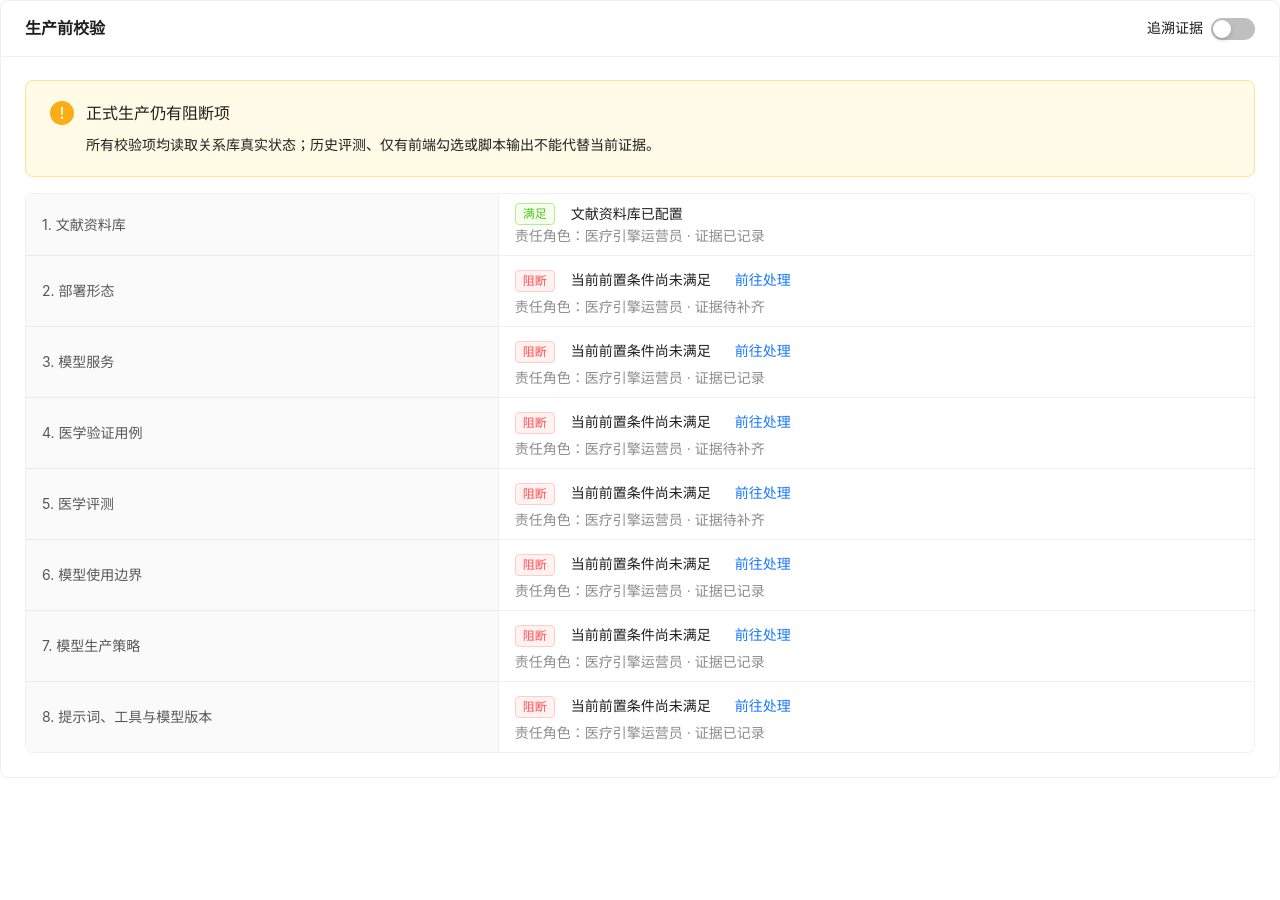
Test case: ProductionReadinessPanel › 默认隐藏生产前校验低频证据，授权打开证据详情后再展示
Expected: the text "责任角色：医疗引擎运营员 · 证据已记录" is shown 5 times, [515,227,765,244]; [515,369,765,386]; [515,582,765,599]; [515,653,765,670]; [515,724,765,741]
Expected: the text "file:///medkernel-data/" is not shown
Click the switch named "证据详情" at (1233,29), box [1211,18,1255,40]
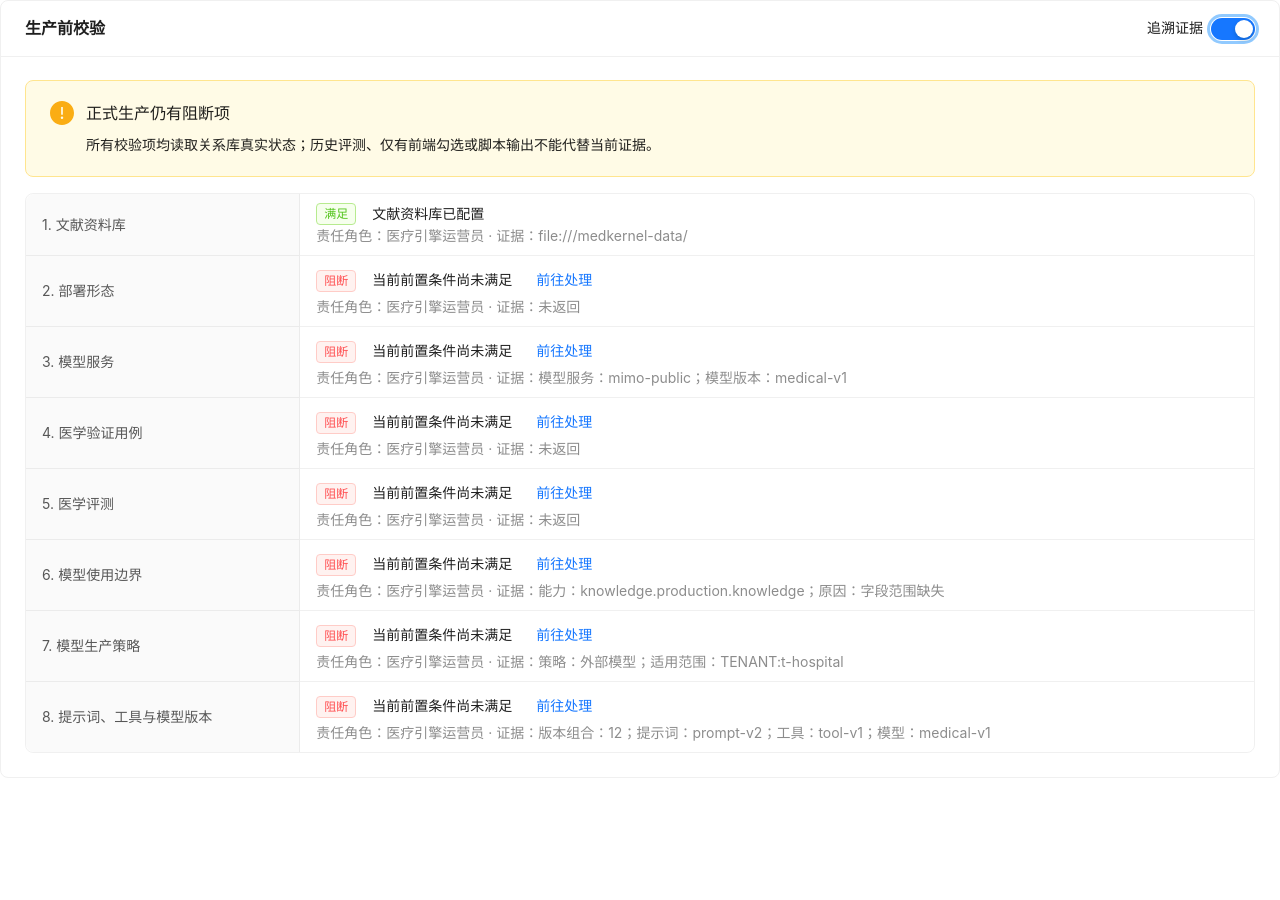
Expected: the text "责任角色：医疗引擎运营员 · 证据：file:///medkernel-data/" is shown, [316,227,688,244]
Expected: the text "责任角色：医疗引擎运营员 · 证据：模型服务：mimo-public；模型版本：medical-v1" is shown, [316,369,847,386]
Expected: the text "knowledge.production.knowledge" is shown, [496,582,945,599]
